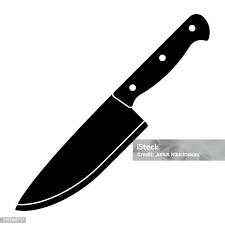Knife: (15, 13, 210, 211)
